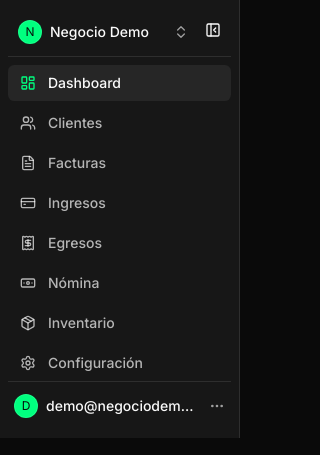
Test: DashboardSidebar › toggles from expanded to collapsed on click, hiding labels and persisting the choice in the sidebar_collapsed cookie
Click the button named "colapsar barra lateral".
click(213, 30)  # box x1=199 y1=16 x2=227 y2=44
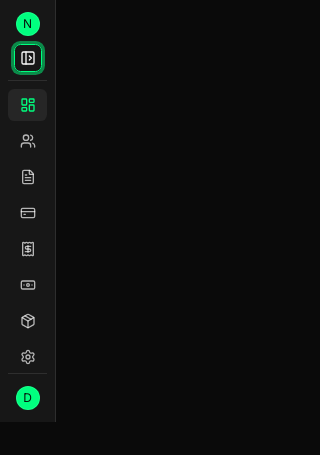
Result: the link "Dashboard" is gone
Result: the button named "expandir barra lateral" is shown at x1=14 y1=44 x2=42 y2=72
